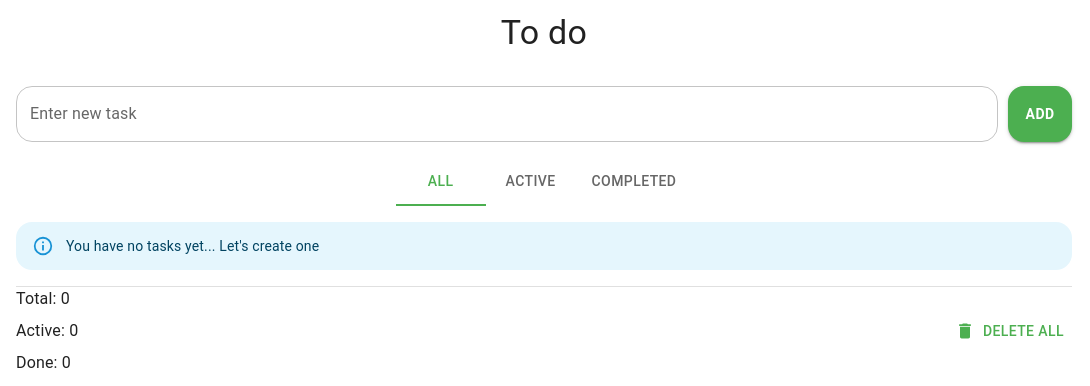
Test: App Component › deletes all tasks
The width and height of the screenshot is (1090, 386).
Note: Add a new task
Type "Task to delete" into the field labelled "Enter new task" at (507, 114), box [16, 86, 998, 142]
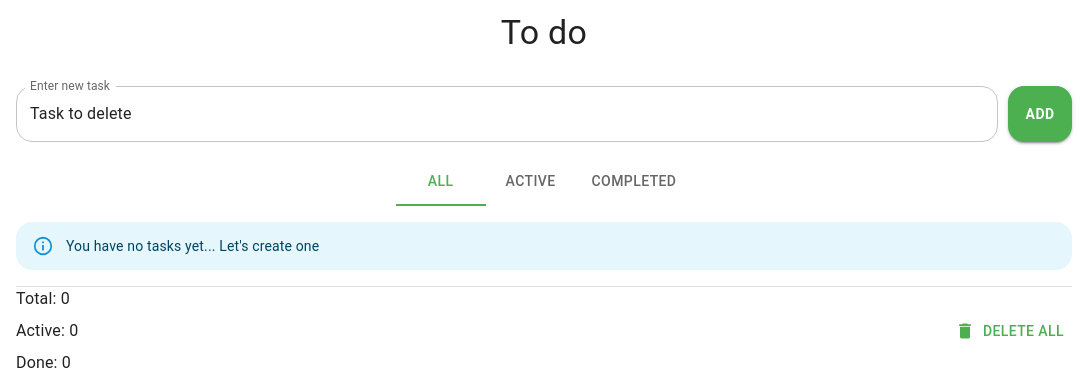
Click the button "Add" at (1040, 114), box [1008, 86, 1072, 142]
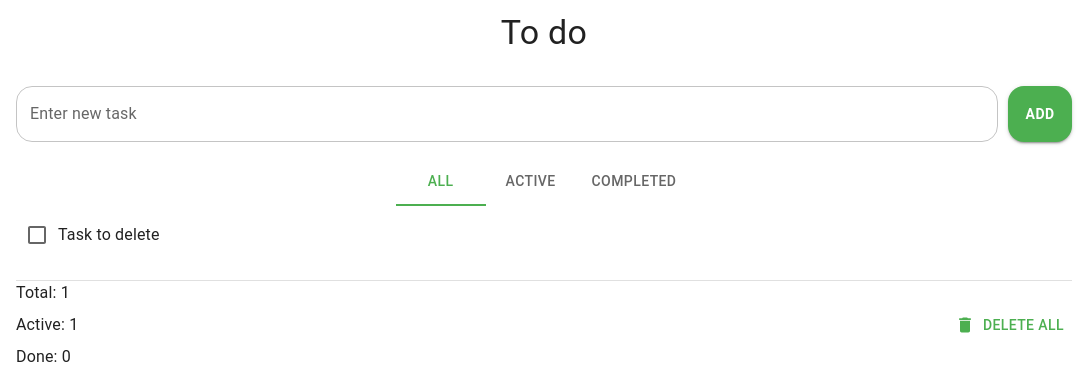
Click the button "Delete All" at (1011, 325), box [951, 281, 1072, 369]
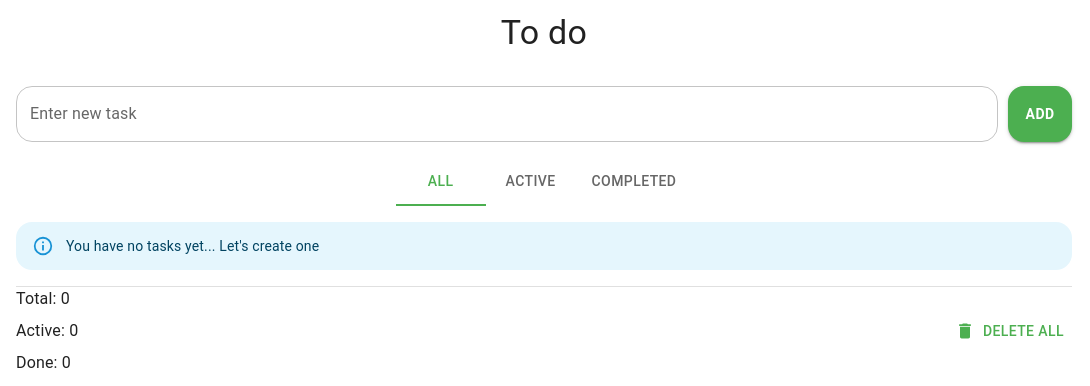
Result: the text "Task to delete" is gone
